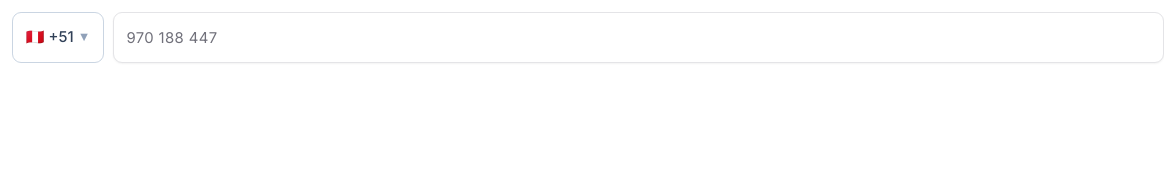
Test: PhoneInput › formats direct numeric typing and emits country code separately
This screenshot has width=1176, height=172.
In the field named "Número de teléfono": (638, 38) [113,12,1164,63], type "970188447"
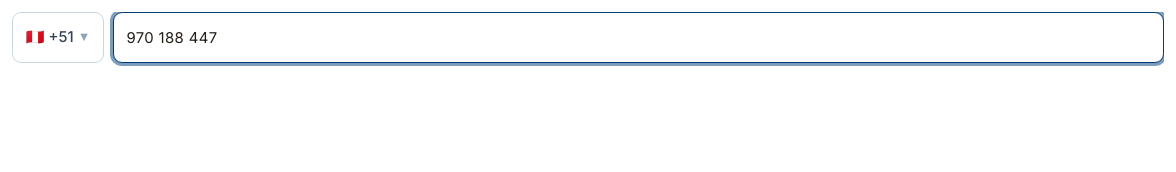
Result: the field named "Número de teléfono" holds "970 188 447" at [113,12,1164,63]
